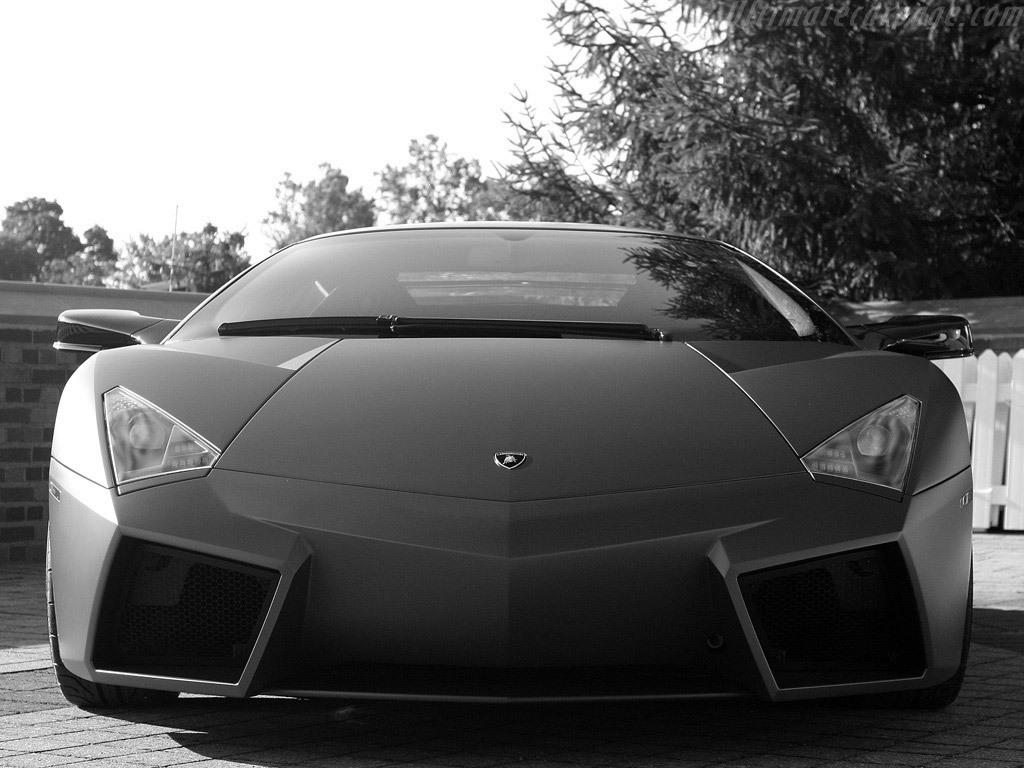car: (53, 222, 973, 719)
